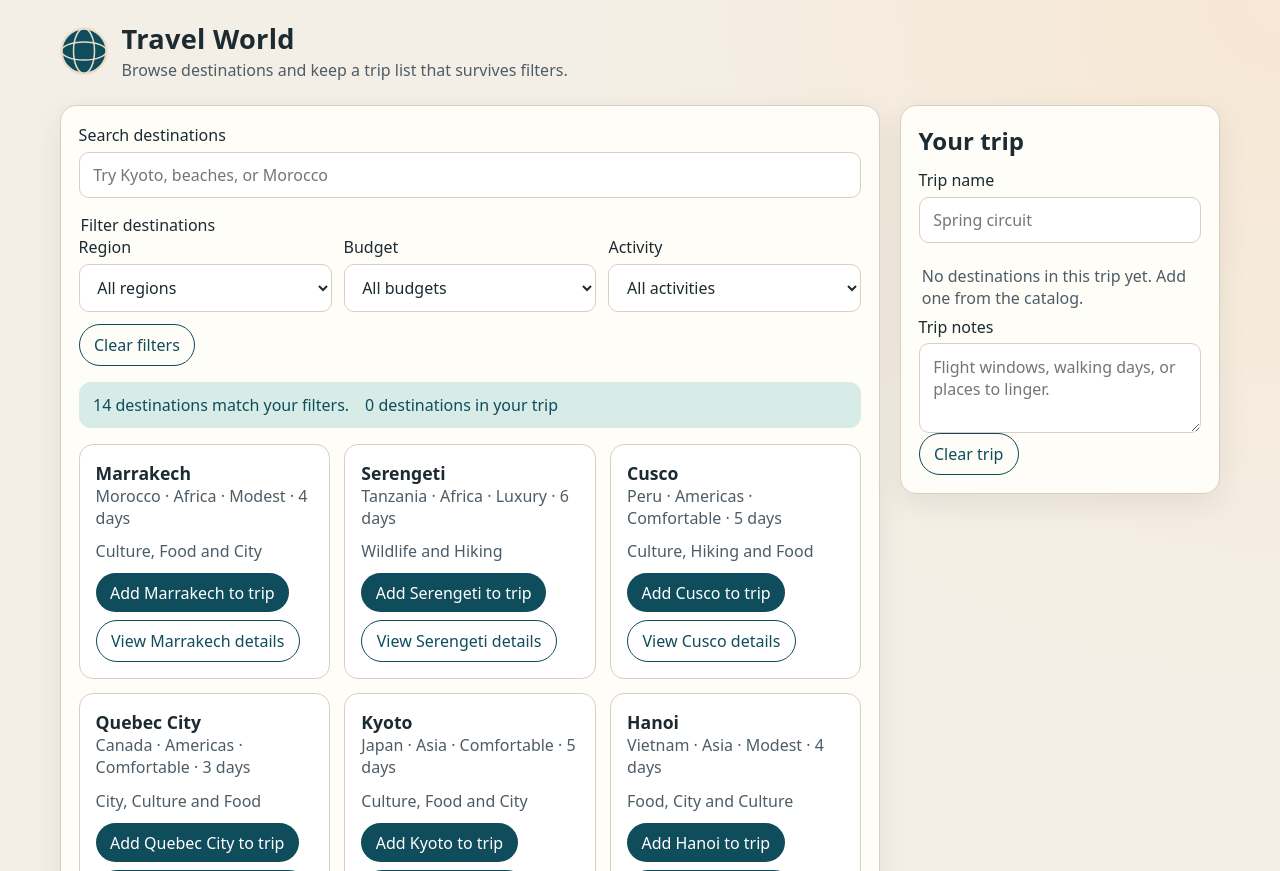
Travel World app › clears search and facet filters without dropping the trip
Click the button "Add Kyoto to trip".
click(439, 843)  # box top-left (361, 823), bottom-right (518, 862)
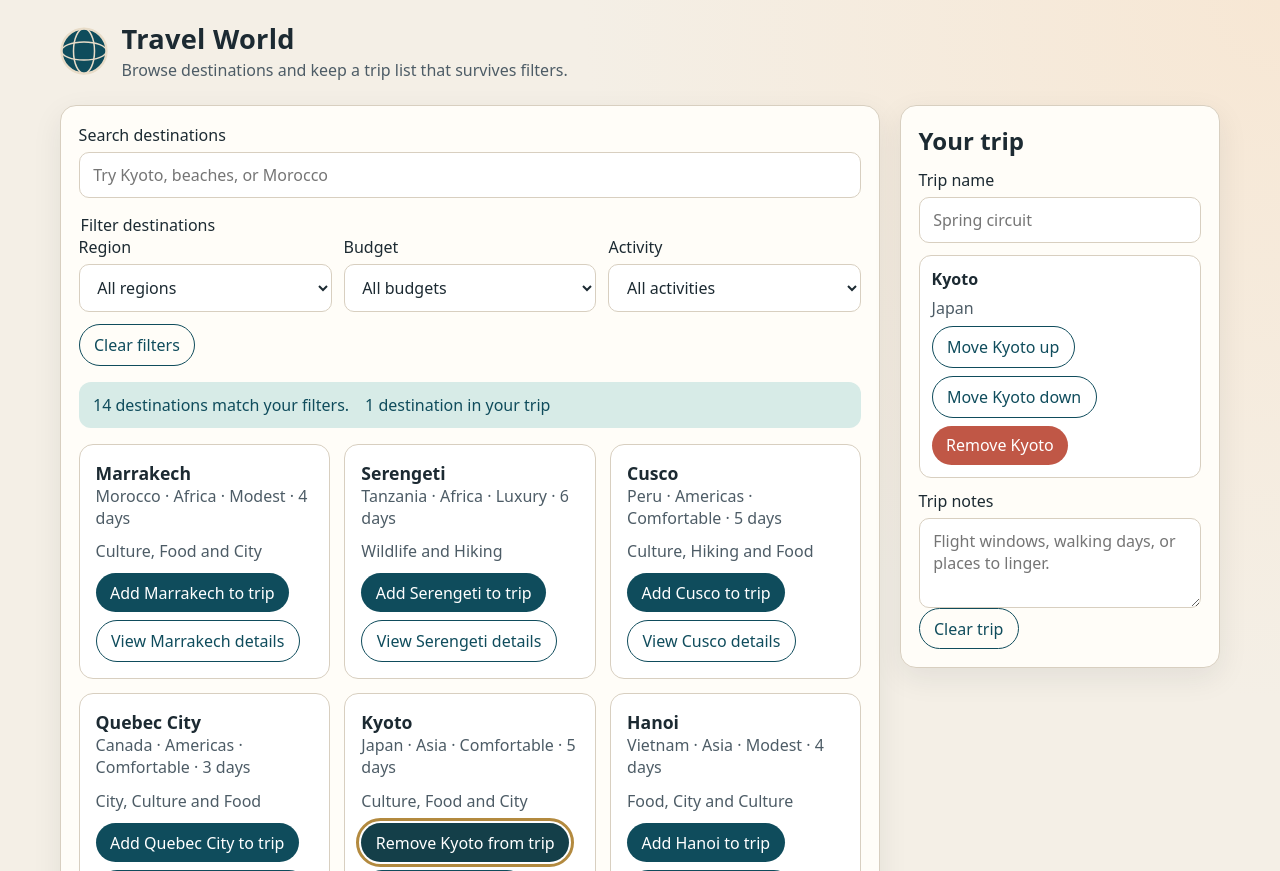
Type "lisbon" into the search field labelled "Search destinations".
click(470, 175); type("lisbon")  # box top-left (79, 152), bottom-right (861, 198)
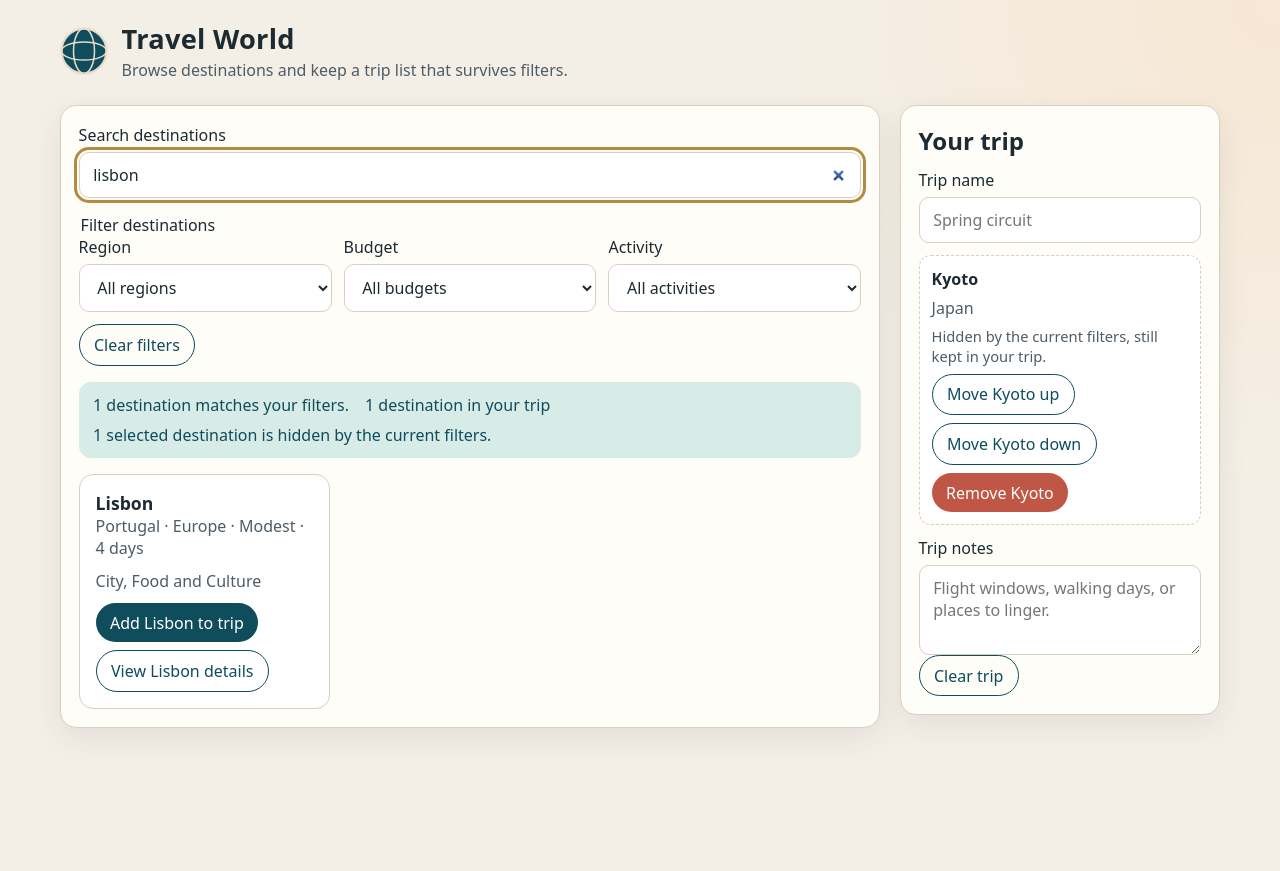
Select "Europe" in the dropdown labelled "Region" at point(205, 288), box top-left (79, 264), bottom-right (332, 312)
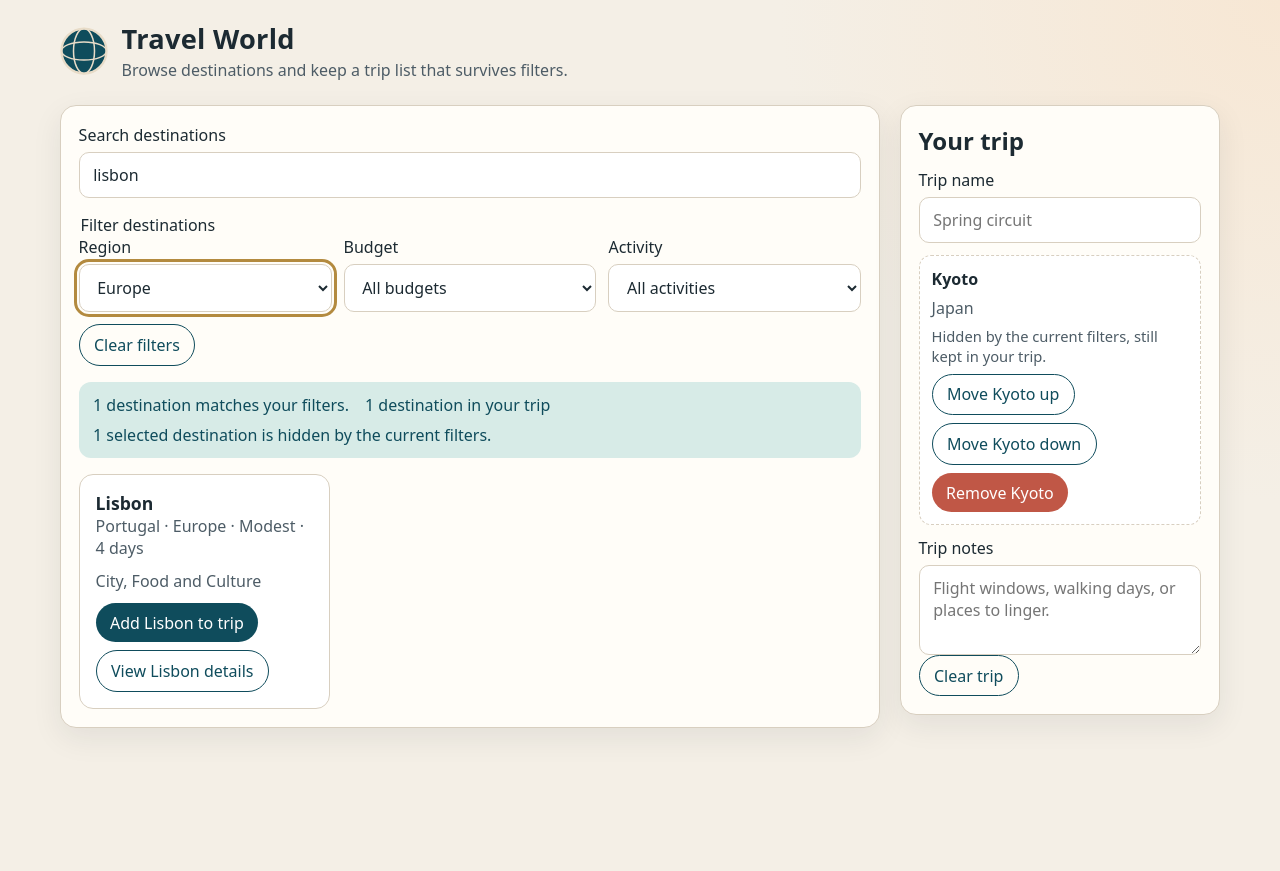
Click the button "Clear filters".
click(137, 345)  # box top-left (79, 324), bottom-right (195, 366)
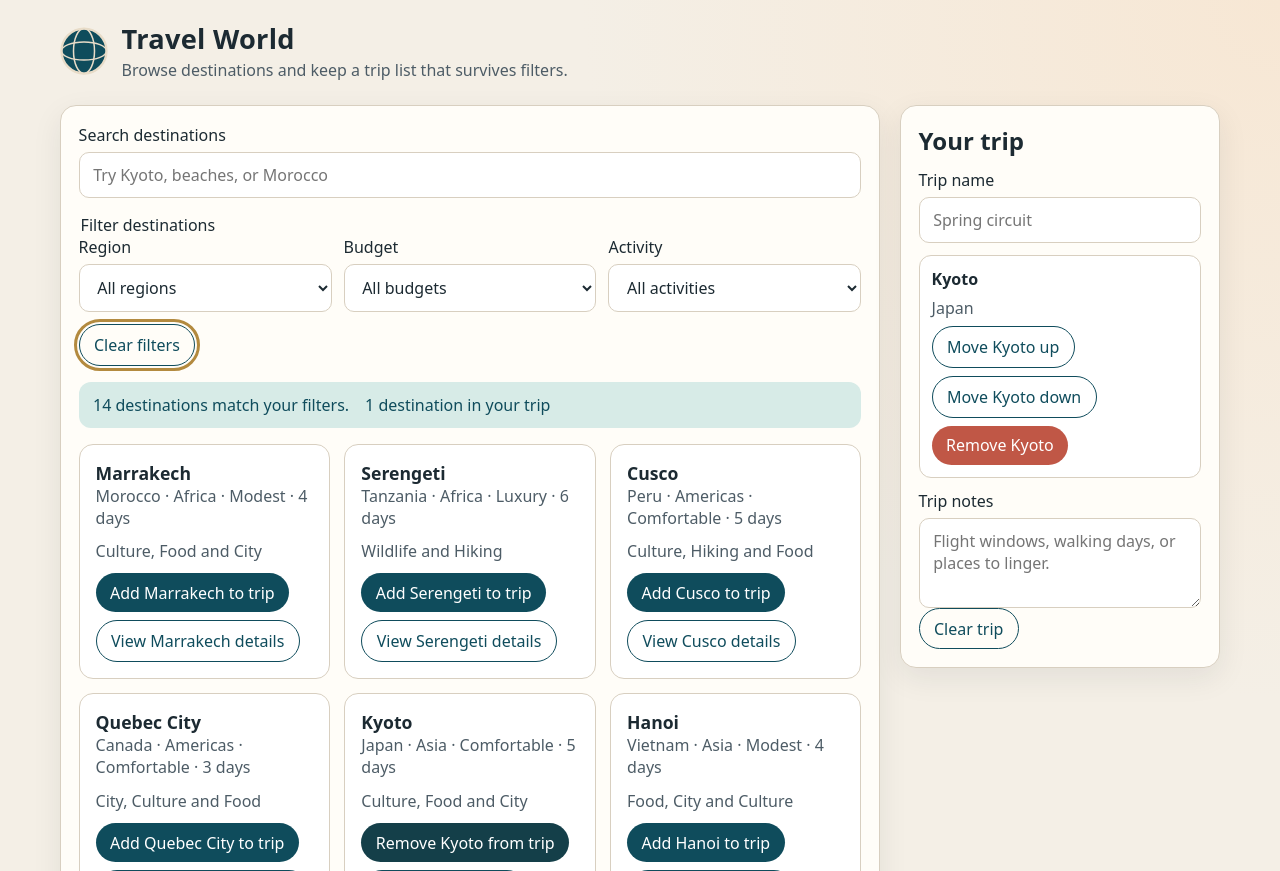
expect the list named "Trip itinerary" shows "Kyoto": met, box top-left (932, 268), bottom-right (978, 290)
expect the search field labelled "Search destinations" is empty: met, box top-left (79, 152), bottom-right (861, 198)
expect the heading "Kyoto" is shown: met, box top-left (361, 710), bottom-right (412, 734)
